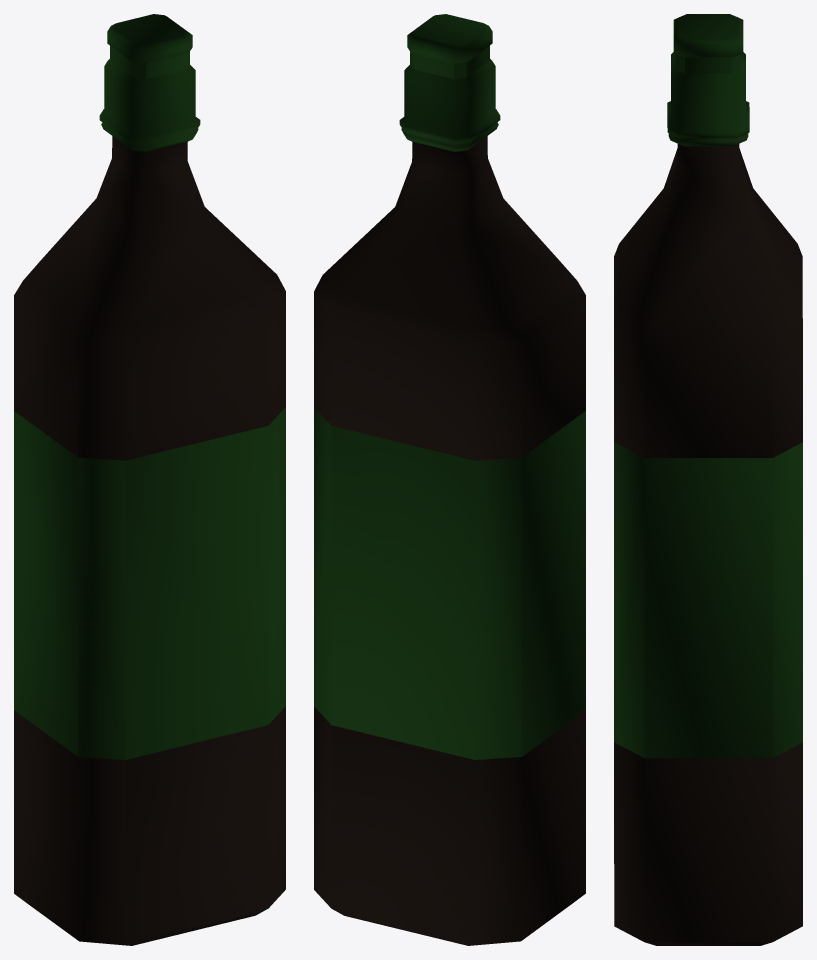
File: Wine 10.fbx
The picture shows the model from 3 angles, left to right: view 1: azimuth 30°, elevation 25°; view 2: azimuth 150°, elevation 25°; view 3: azimuth 270°, elevation 25°; orthographic projection.
Parts seen in each view (by area): view 1: Node 0; view 2: Node 0; view 3: Node 0.
Boxes of the visible parts, x1,y1,x2,y2 form: Node 0: [14, 14, 285, 945]; Node 0: [314, 14, 585, 945]; Node 0: [614, 14, 802, 945].
Bounding box in the file's own units: 0.0518 × 0.2641 × 0.0662.
